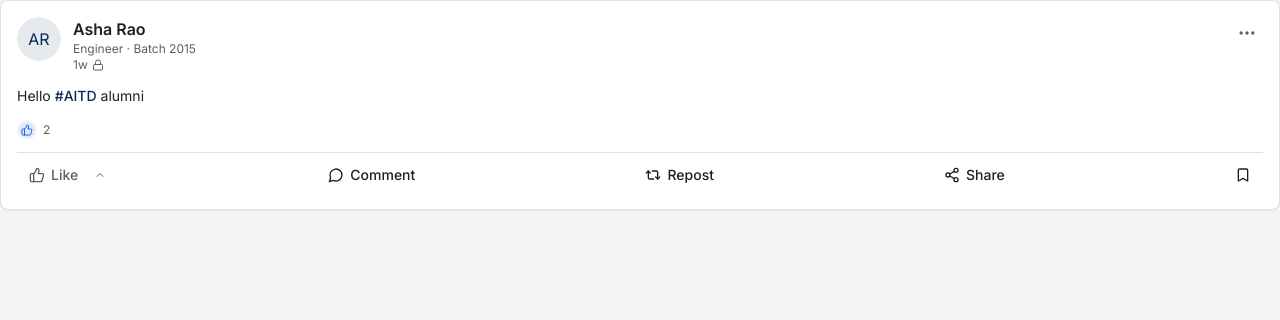
Test: PostCard reposts and saves › does not allow reposting connection-only posts
Click the button with aria-label "Repost options".
click(680, 175)  # box [633,157,726,193]
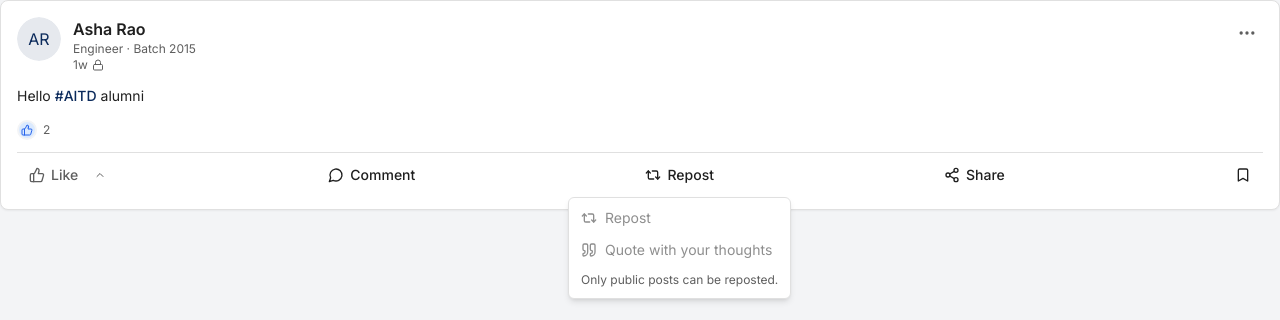
Expected: the text "Only public posts can be reposted." is shown, [581,272,778,287]
